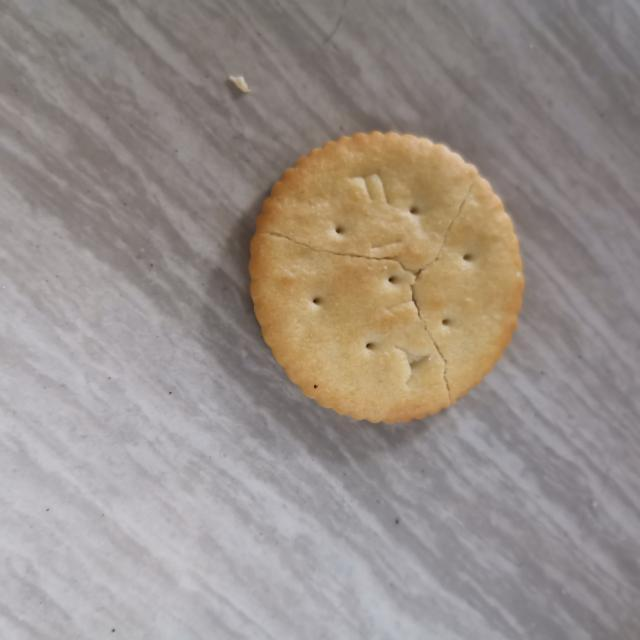Fracture: (253, 164, 489, 408)
